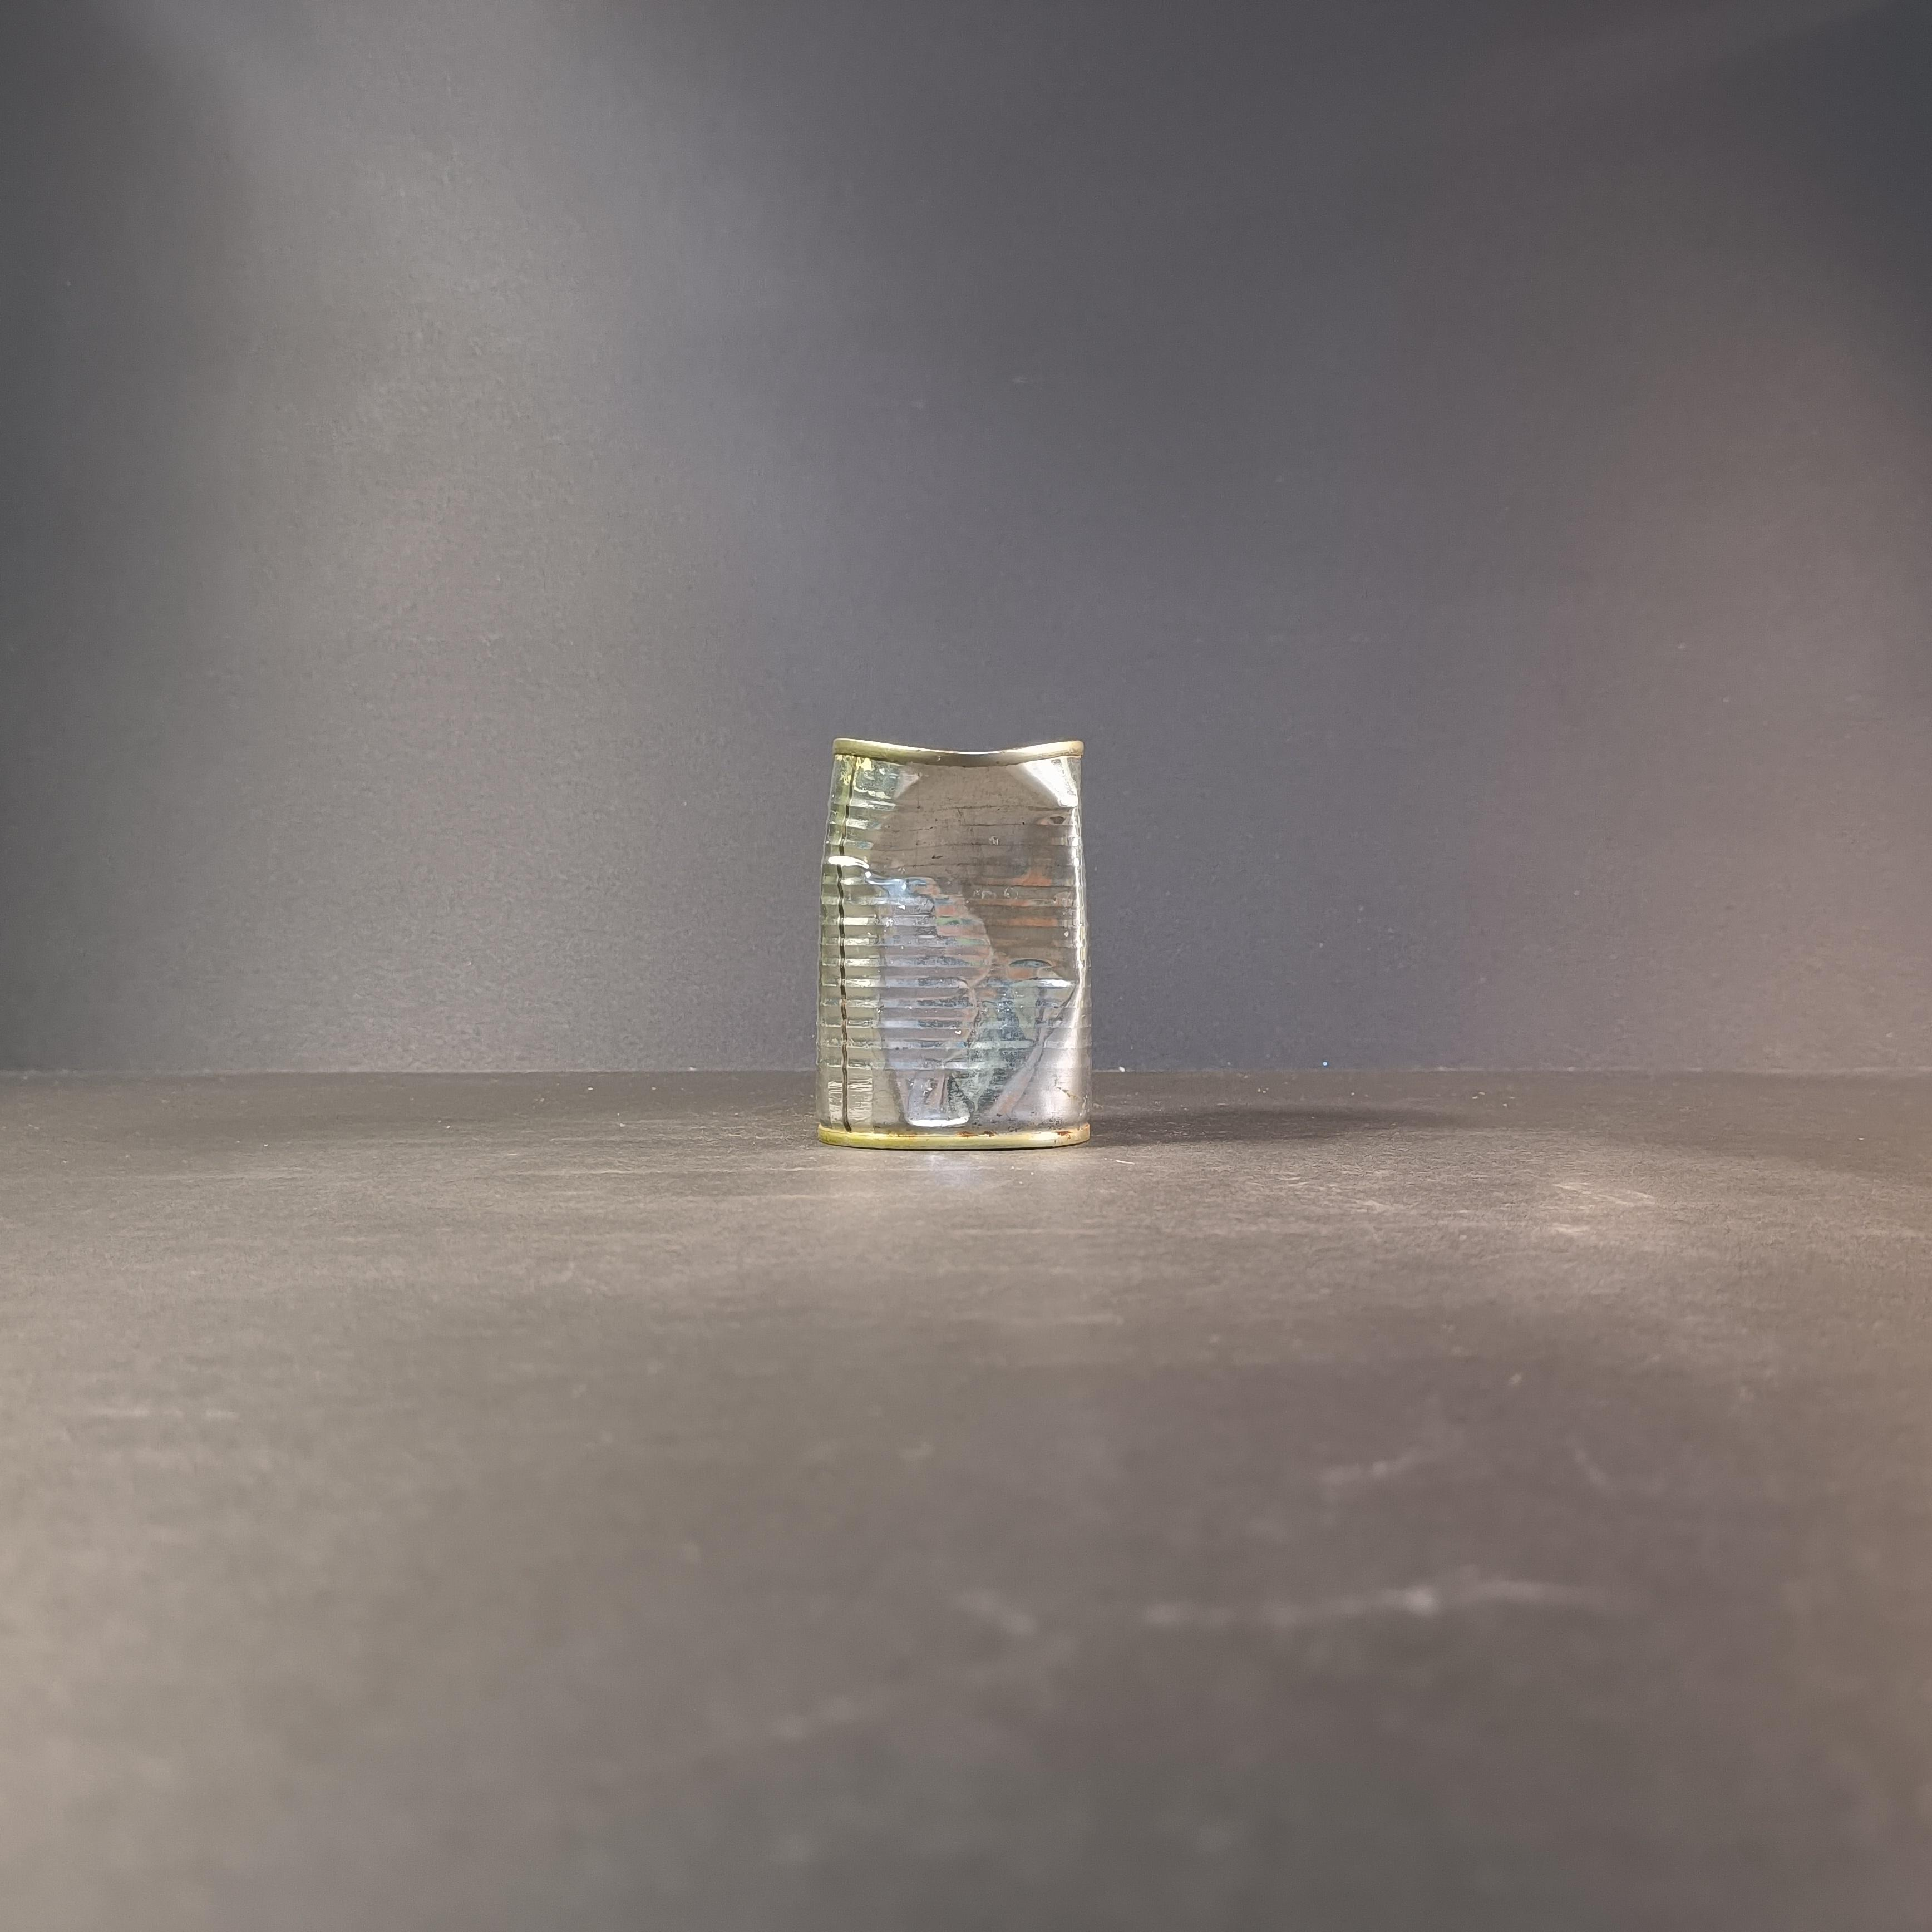Dented: (798, 706, 1118, 1161)
